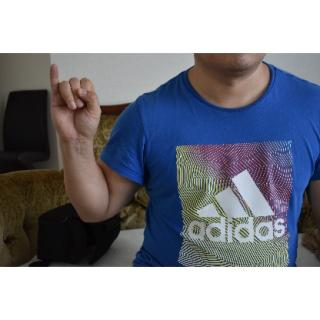MEEM: (44, 60, 104, 146)
